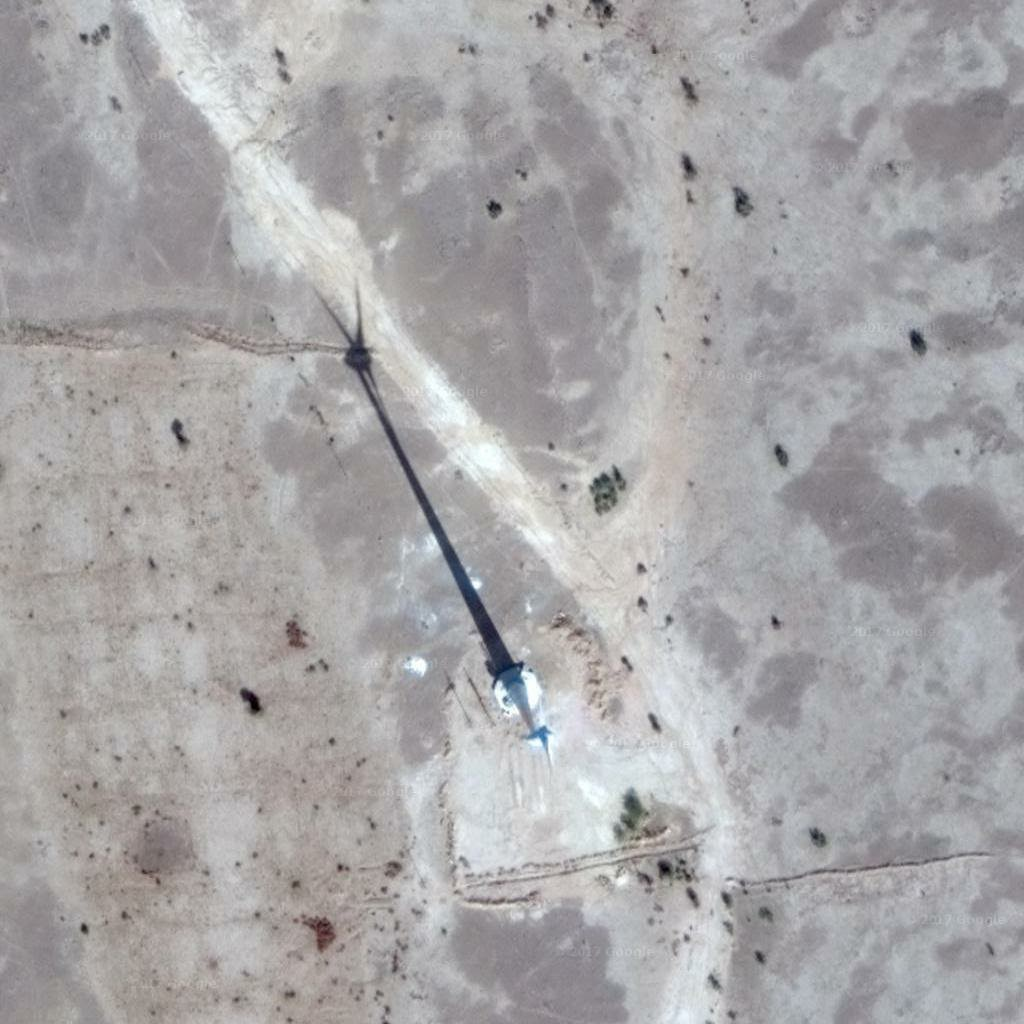Windmill: (306, 282, 524, 671)
